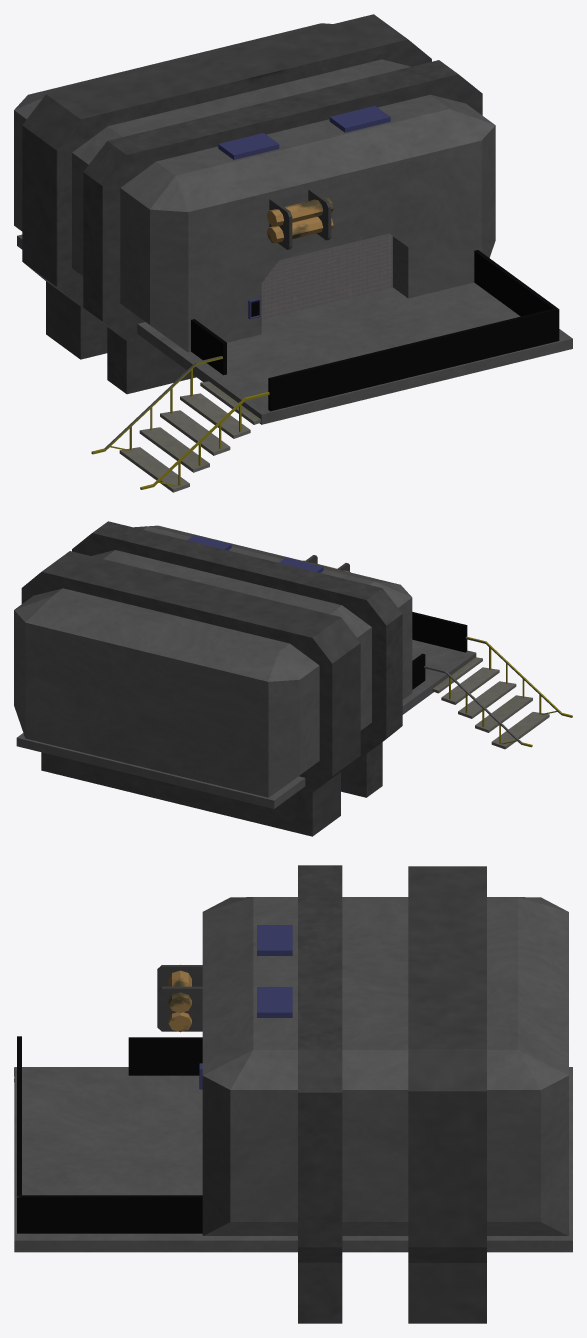
File: Edificio02.fbx
3 renders of one model, top to bottom at view 1: azimuth 30°, elevation 25°; view 2: azimuth 150°, elevation 25°; view 3: azimuth 270°, elevation 25°, orthographic. The views are drawn at different scales.
Visible parts, largest first — view 1: LOD_0; view 2: LOD_0; view 3: LOD_0.
Part boxes in pixels (x1,y1,x2,y2): LOD_0: (14, 14, 572, 492); LOD_0: (14, 521, 572, 836); LOD_0: (14, 865, 572, 1323).
Size of what is drawn, in the model's own units: 1413 by 700 by 1291.
